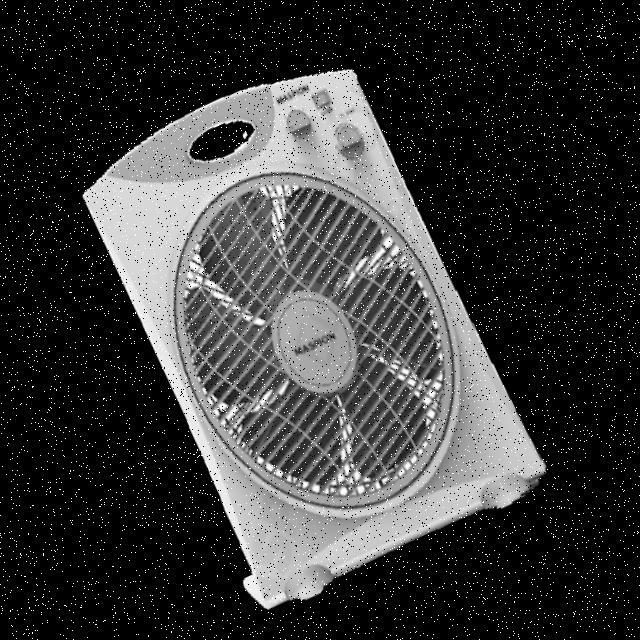fan: (68, 42, 550, 605)
